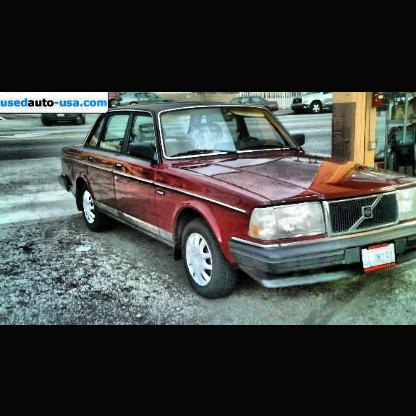Volvo 240 Sedan 1993: (58, 101, 416, 301)
